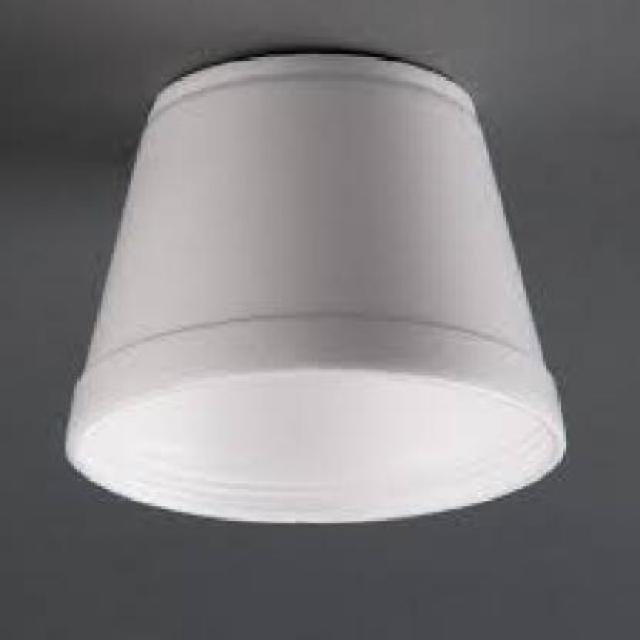PAPER: (62, 51, 564, 526)
